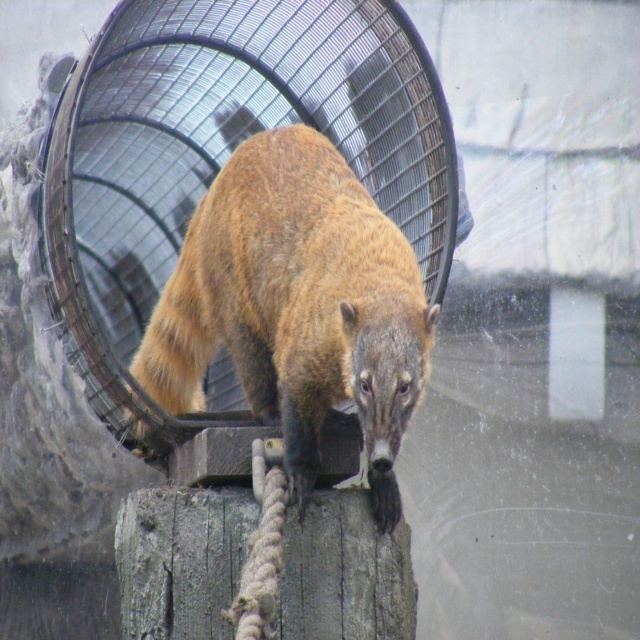Bear: (140, 121, 439, 503)
